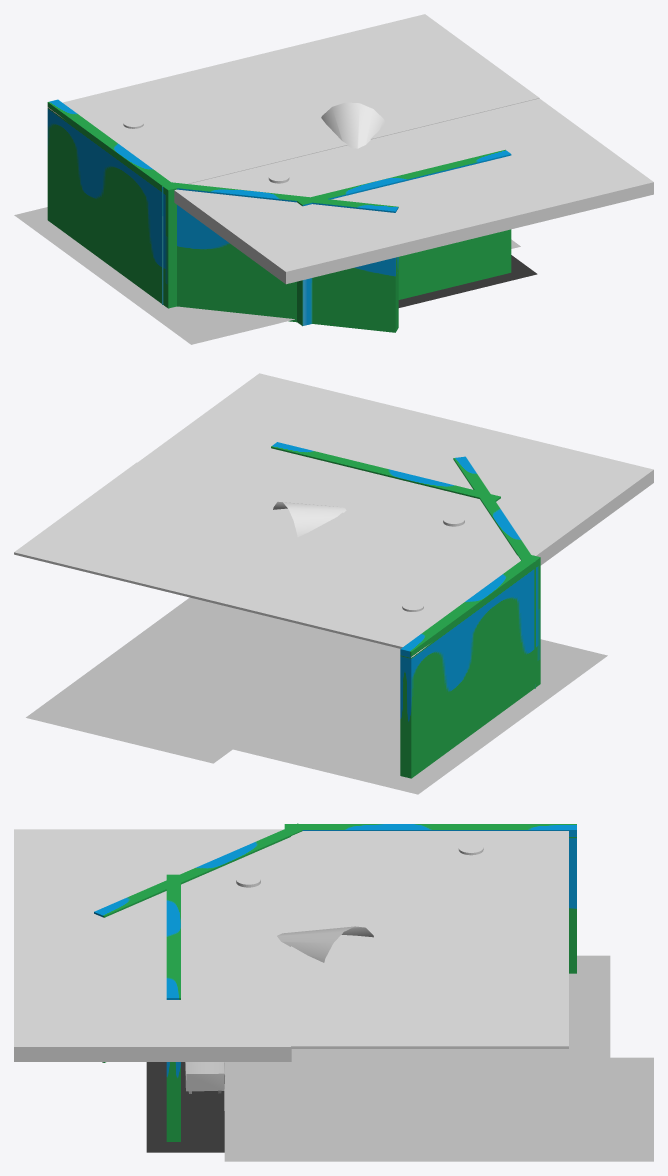
The picture shows the model from 3 angles, top to bottom: view 1: azimuth 30°, elevation 25°; view 2: azimuth 150°, elevation 25°; view 3: azimuth 270°, elevation 25°; orthographic projection. The views are drawn at different scales.
Visible parts, largest first — view 1: Cube.002, Cube.001, Куб.002, Плоскость, Plane.547, Плоскость.016, Плоскость.014, Плоскость.015, Плоскость.001; view 2: Cube.001, Cube.002, Куб.002, Плоскость.009, Плоскость.011, Плоскость.005, Плоскость.010, Плоскость.012, Плоскость.013, Плоскость.008, Плоскость.006, Плоскость.014 (+7 smaller); view 3: Cube.002, Cube.001, Куб.002, Плоскость.009, Плоскость.008, Плоскость.010, Плоскость.006, Плоскость.004, Плоскость.011, Плоскость.005, Плоскость.007, Плоскость.016 (+6 smaller).
Part boxes in pixels (x1,y1,x2,y2): Cube.002: [174, 98, 653, 284]; Cube.001: [62, 14, 539, 183]; Куб.002: [47, 99, 511, 332]; Плоскость: [147, 306, 280, 344]; Plane.547: [321, 102, 385, 148]; Плоскость.016: [332, 255, 537, 323]; Плоскость.014: [14, 207, 79, 248]; Плоскость.015: [60, 244, 123, 280]; Плоскость.001: [102, 276, 166, 312]; Cube.001: [14, 462, 520, 648]; Cube.002: [138, 373, 653, 565]; Куб.002: [271, 442, 540, 778]; Плоскость.009: [117, 704, 261, 763]; Плоскость.011: [75, 647, 217, 705]; Плоскость.005: [121, 613, 263, 670]; Плоскость.010: [26, 682, 165, 739]; Плоскость.012: [278, 678, 400, 736]; Плоскость.013: [233, 714, 368, 770]; Плоскость.008: [171, 671, 306, 727]; Плоскость.006: [219, 637, 352, 692]; Плоскость.014: [322, 735, 466, 794]; Cube.002: [14, 829, 291, 1061]; Cube.001: [291, 831, 568, 1048]; Куб.002: [94, 823, 576, 1141]; Плоскость.009: [543, 1057, 653, 1110]; Плоскость.008: [436, 1057, 543, 1110]; Плоскость.010: [543, 1111, 653, 1161]; Плоскость.006: [331, 1057, 435, 1110]; Плоскость.004: [224, 1111, 331, 1161]; Плоскость.011: [436, 1111, 543, 1161]; Плоскость.005: [331, 1111, 436, 1161]; Плоскость.007: [224, 1059, 331, 1110]; Плоскость.016: [146, 1062, 224, 1152].
Size of the model in its own units: 928 by 310 by 1077.
